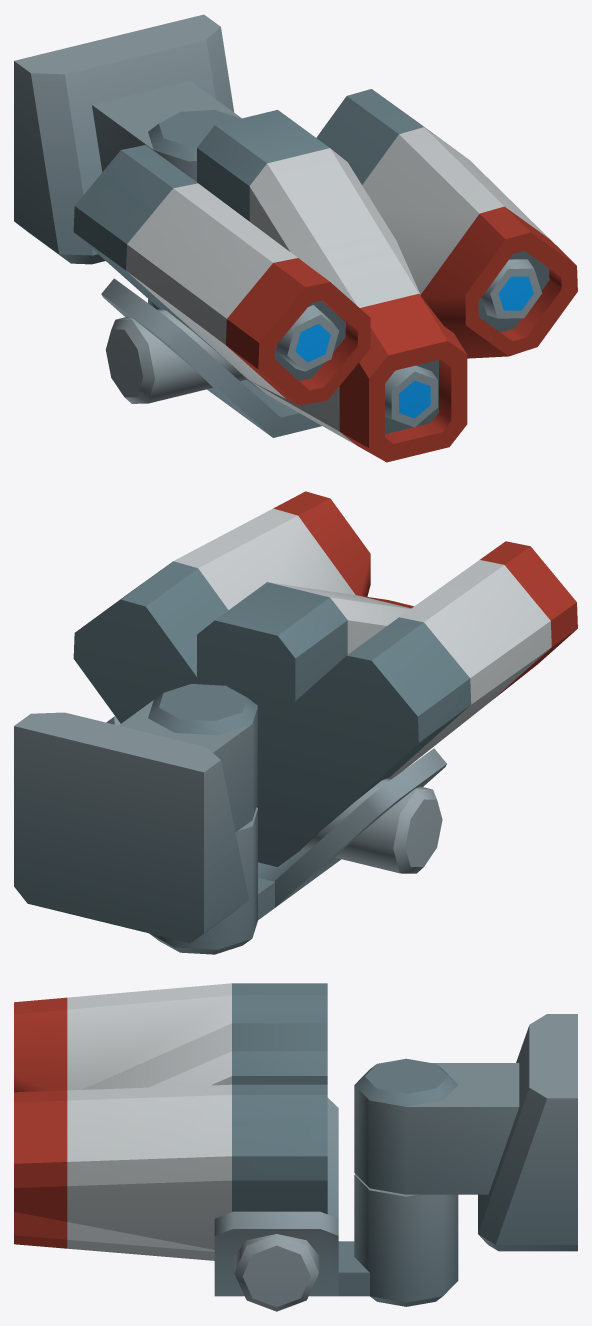
Rendered from Security_cam_001.glb.
3 views of the same model, one above another, from view 1: azimuth 30°, elevation 25°; view 2: azimuth 150°, elevation 25°; view 3: azimuth 270°, elevation 25° (orthographic). The views are drawn at different scales.
Visible parts, largest first — view 1: Cam_001, Security_cam_001, Support_001; view 2: Cam_001, Security_cam_001, Support_001; view 3: Cam_001, Security_cam_001, Support_001.
Boxes of the visible parts, bbox=[...] form: Cam_001: bbox=[73, 89, 577, 462]; Security_cam_001: bbox=[14, 14, 241, 264]; Support_001: bbox=[101, 278, 321, 437]; Cam_001: bbox=[73, 491, 577, 873]; Security_cam_001: bbox=[14, 684, 257, 943]; Support_001: bbox=[106, 716, 446, 954]; Cam_001: bbox=[14, 983, 327, 1311]; Security_cam_001: bbox=[354, 1014, 577, 1251]; Support_001: bbox=[214, 1098, 458, 1306].
Size of the model in its own units: 0.428 by 0.3272 by 0.6636.
Materials: 2 (2 with a texture image).
